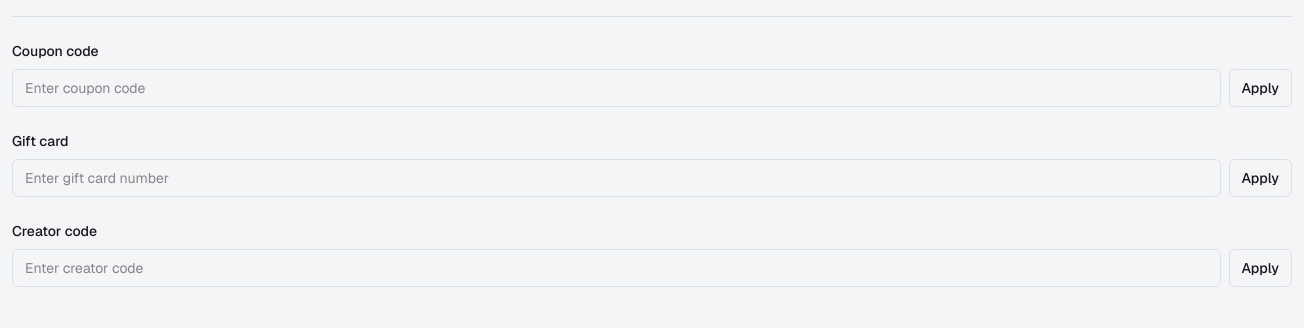
PromoCodes — gift cards (multi-entry) › shows the specific error message when applying a gift card fails
In the field labelled "gift card number": (616, 178) [12,159,1220,197], type "0000 0000"
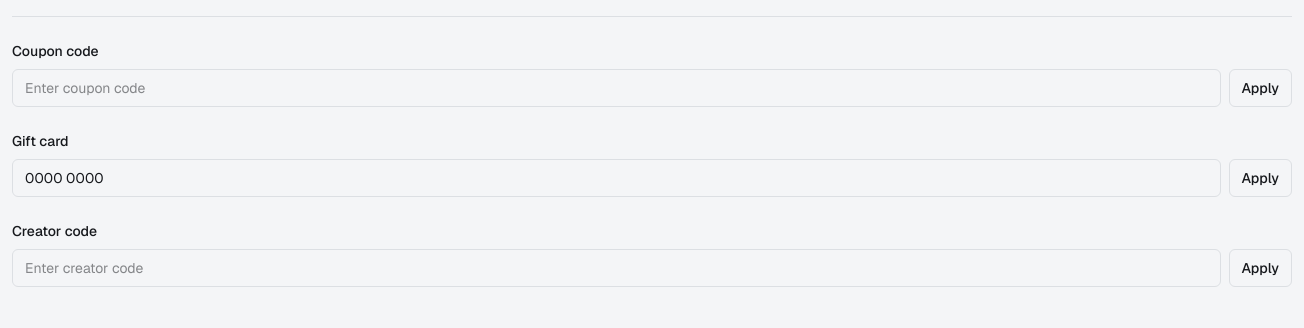
Click the 2nd button "Apply": (1260, 178) [1228,159,1292,197]
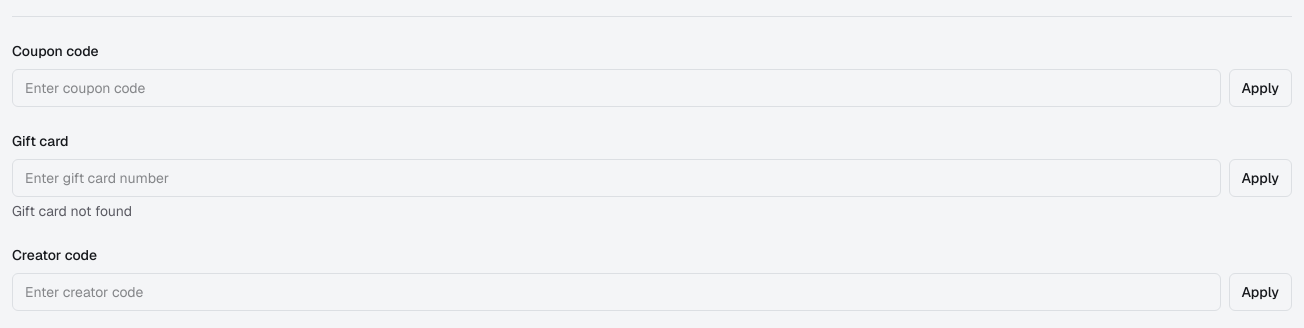
Expected: the text "Gift card not found" is shown, [12,202,132,220]
